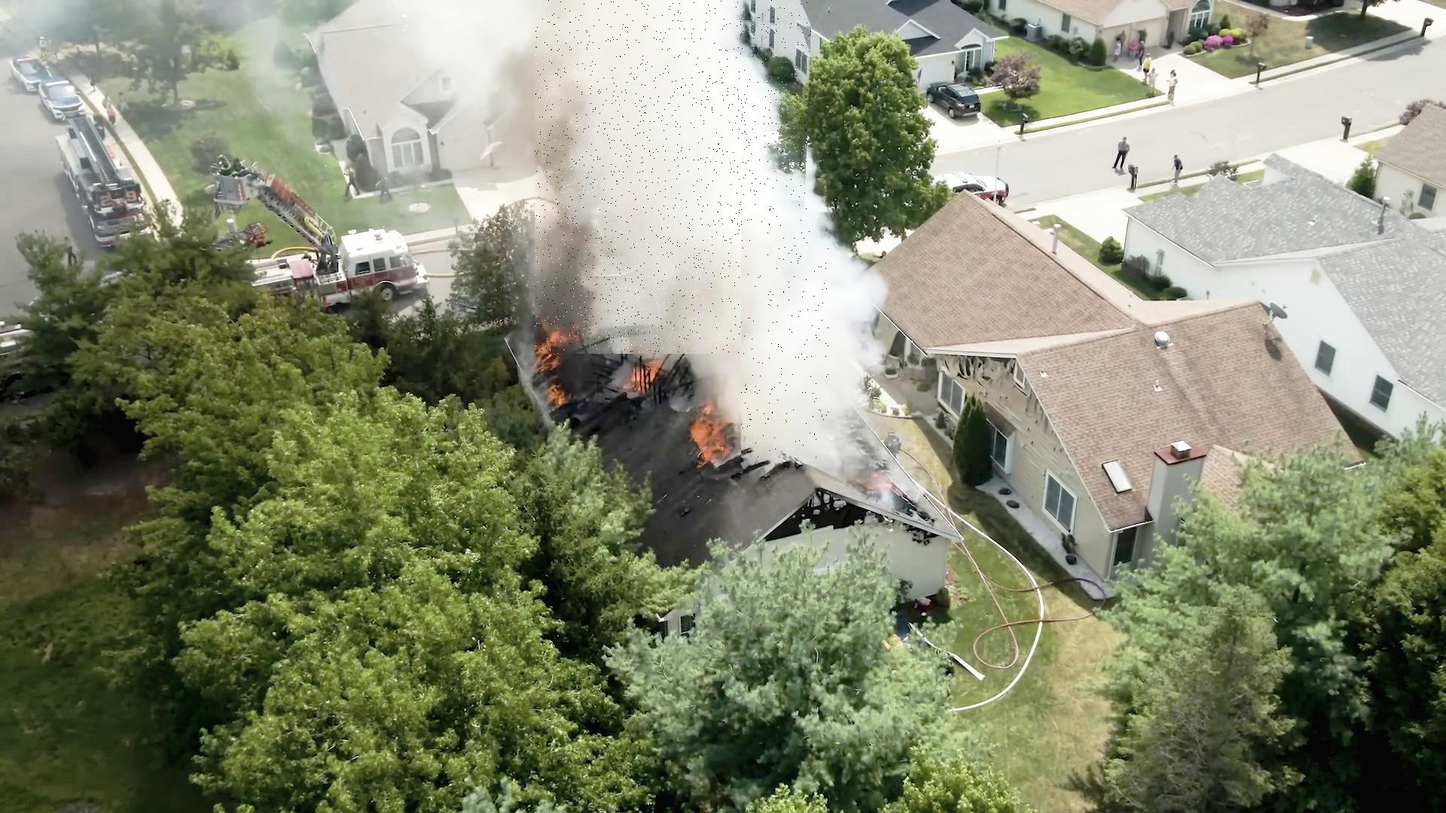smoke: (535, 0, 811, 354), (742, 213, 829, 460)
